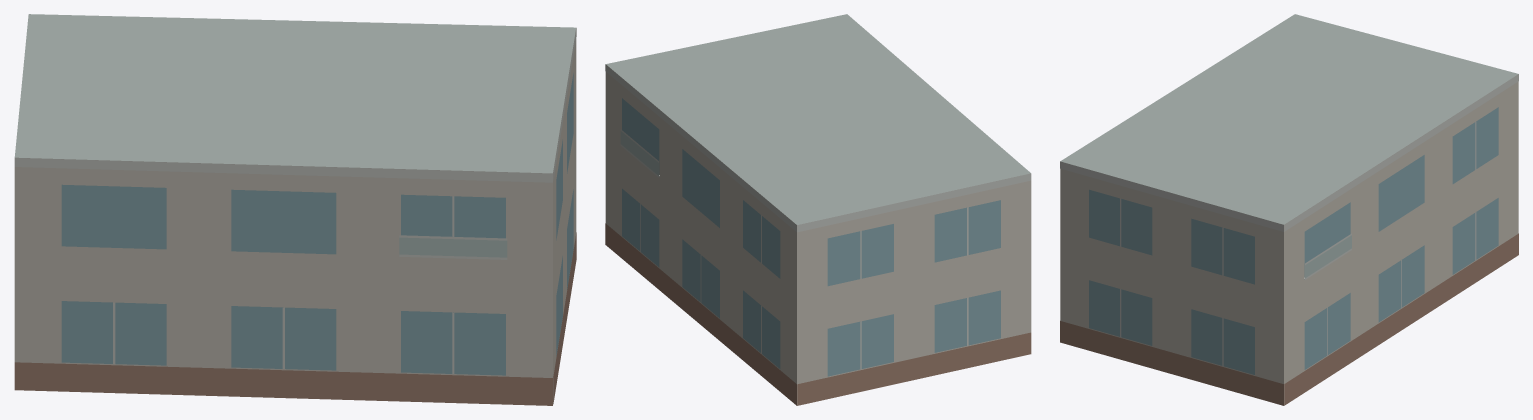
The model's file is survey-upis-32921252.glb.
3 renders of one model, left to right at view 1: azimuth 30°, elevation 25°; view 2: azimuth 150°, elevation 25°; view 3: azimuth 270°, elevation 25°, orthographic. The views are drawn at different scales.
Visible parts, largest first — view 1: survey-upis-32921252.tmp; view 2: survey-upis-32921252.tmp; view 3: survey-upis-32921252.tmp.
Boxes of the visible parts, left/top/right/bottom form: survey-upis-32921252.tmp: left=14, top=14, right=576, bottom=405; survey-upis-32921252.tmp: left=605, top=14, right=1031, bottom=405; survey-upis-32921252.tmp: left=1060, top=14, right=1518, bottom=405.
Size of the model in its own units: 15.24 by 6.1 by 14.01.
